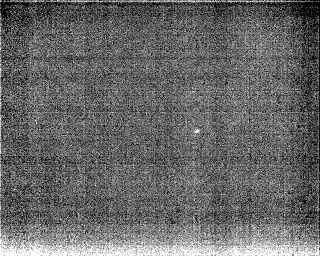BIRD: (193, 126, 202, 136)
